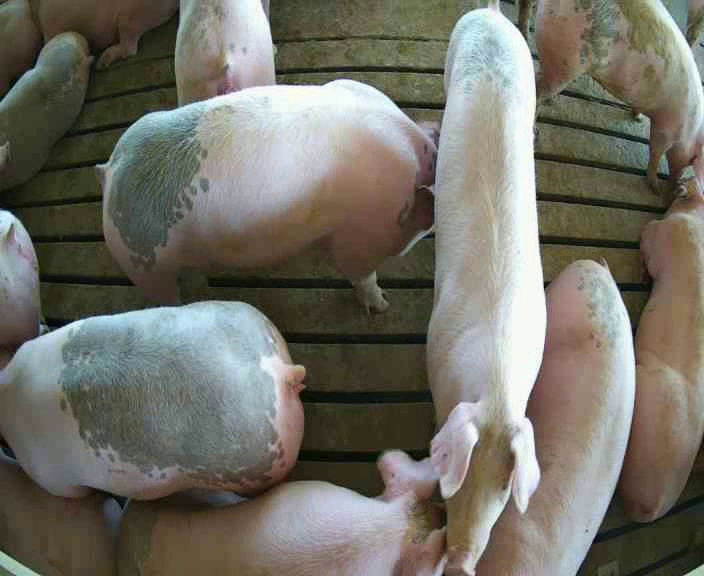pig: (94, 80, 438, 310), (427, 1, 545, 573), (0, 302, 304, 499), (117, 451, 447, 575), (536, 2, 703, 190), (620, 176, 703, 521), (0, 32, 92, 190), (175, 1, 276, 105), (32, 1, 177, 68)
